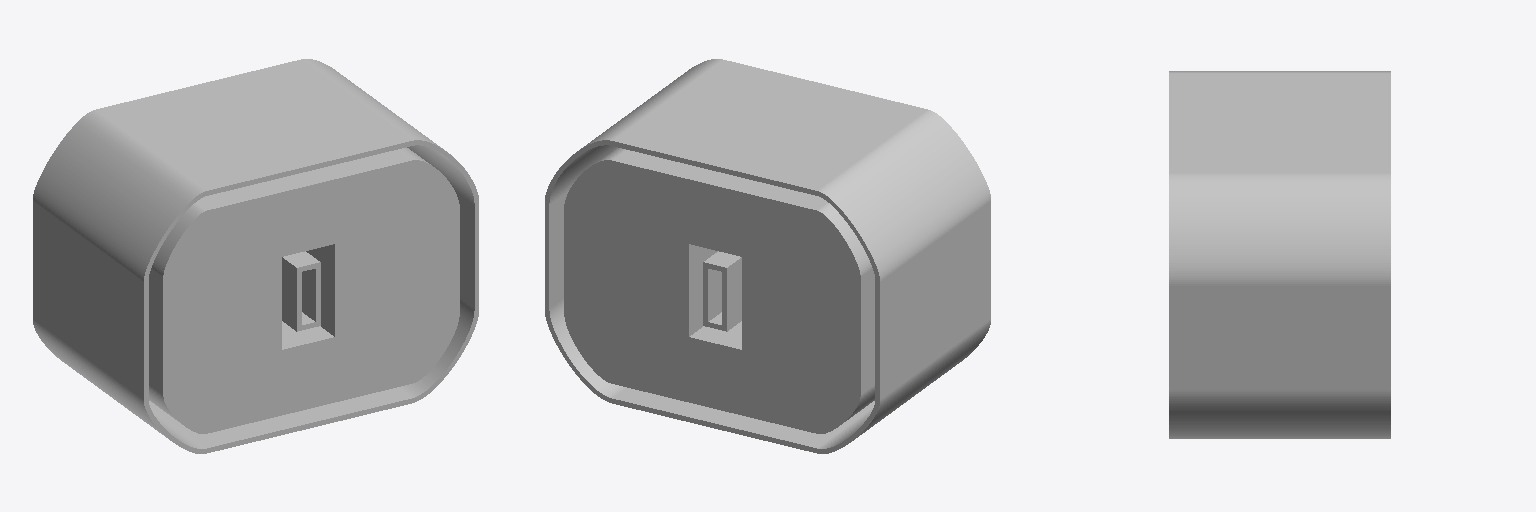
3 views of the same model, side by side, from view 1: azimuth 30°, elevation 25°; view 2: azimuth 150°, elevation 25°; view 3: azimuth 270°, elevation 25° (orthographic).
Parts seen in each view (by area): view 1: Texto; view 2: Texto; view 3: Texto.
Boxes of the visible parts, box(x1,y1,x2,y2) form: Texto: box(33, 59, 478, 453); Texto: box(545, 59, 990, 453); Texto: box(1169, 71, 1390, 438).
Bounding box in the file's own units: 10.46 × 7.82 × 6.